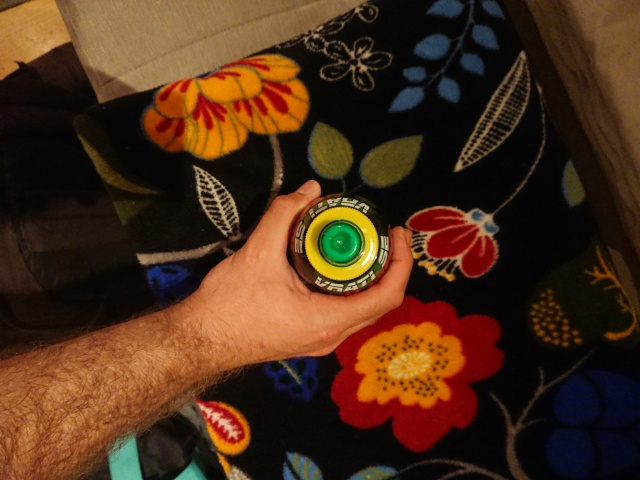Vindi Iso Sport Forest Strawberries 500mL: (286, 190, 395, 297)
